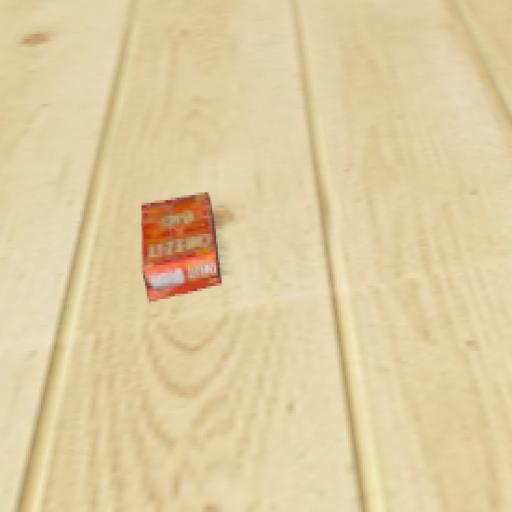BOX_R: (100, 131, 249, 316)
